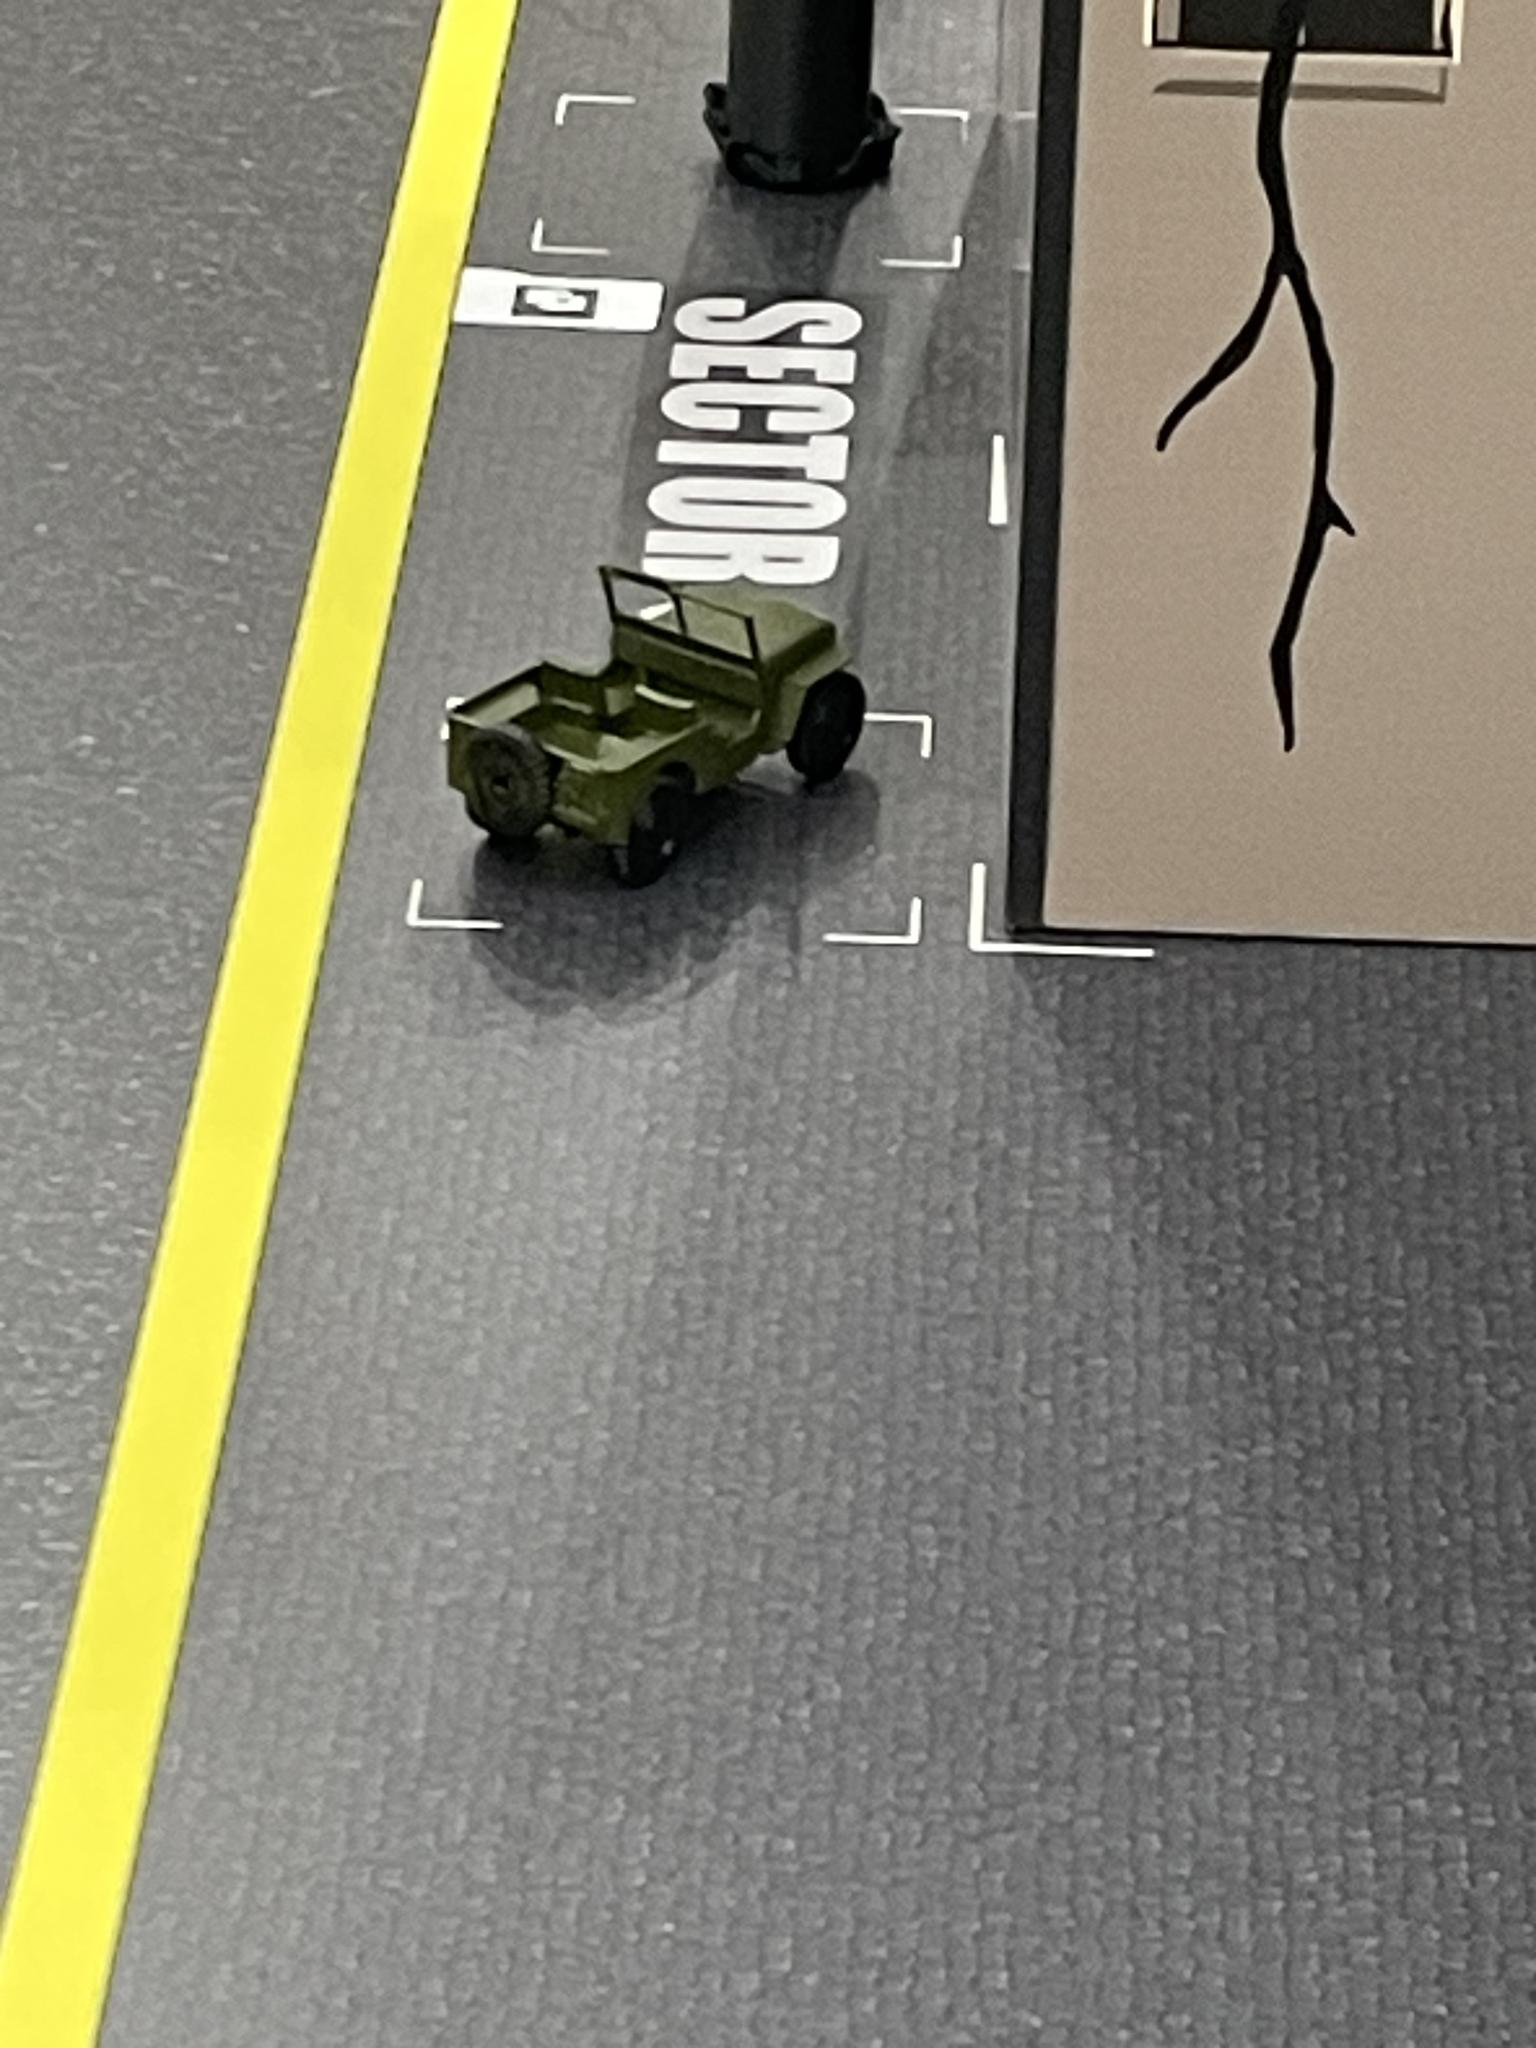Car: (424, 546, 874, 917)
Missile: (691, 0, 919, 203)
